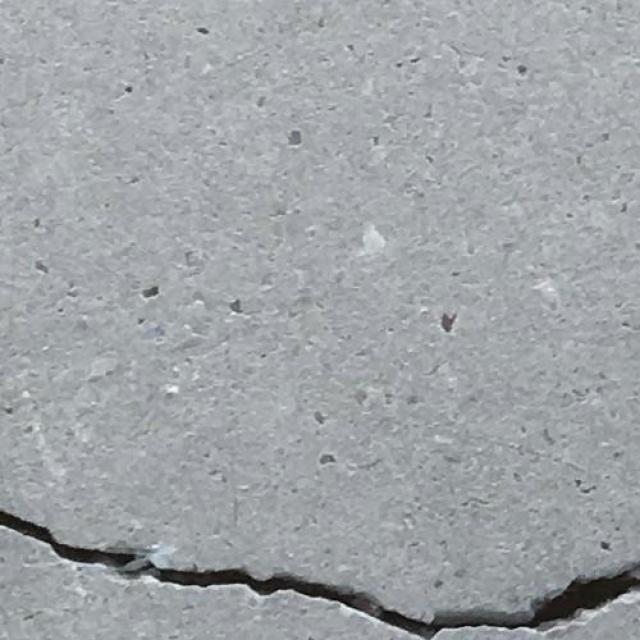horizontal crack: (4, 465, 640, 637)
